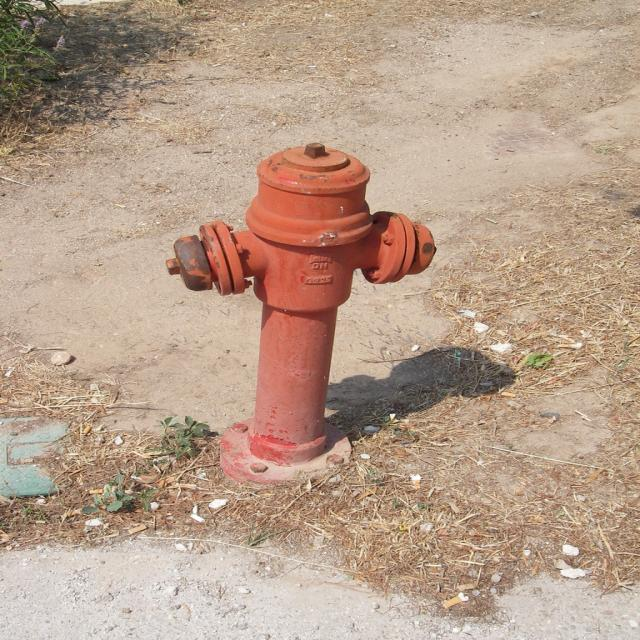fire_hydrant: (166, 146, 434, 487)
